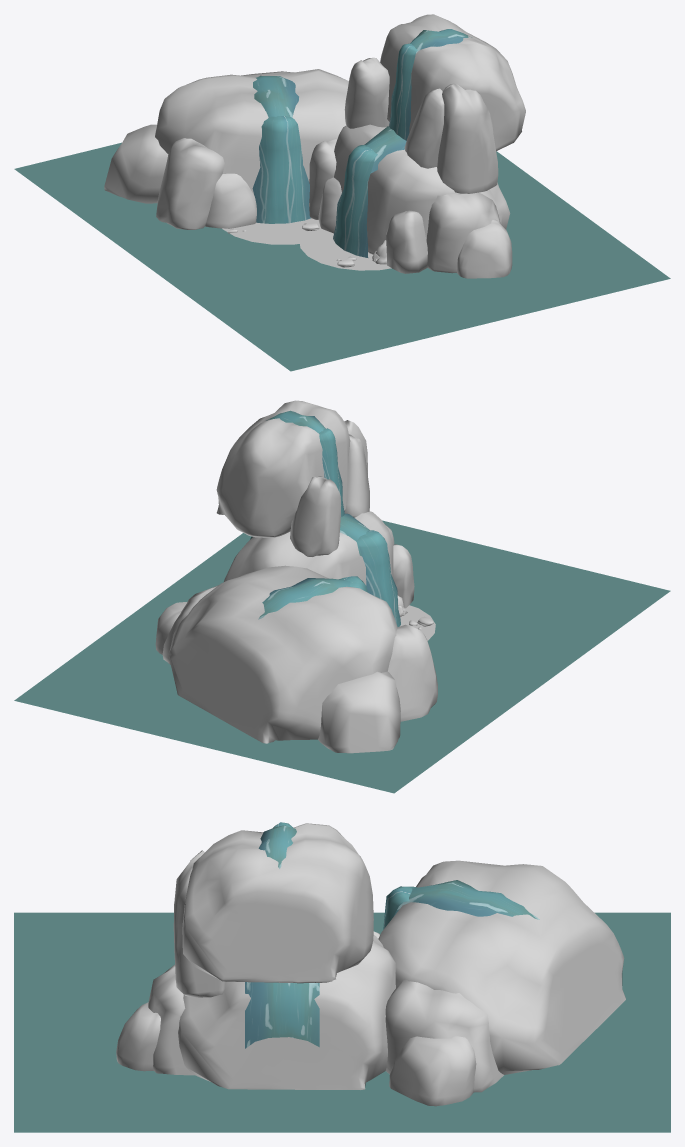
Rendered from stacked waterfall whole.fbx.
3 views of the same model, one above another, from view 1: azimuth 30°, elevation 25°; view 2: azimuth 150°, elevation 25°; view 3: azimuth 270°, elevation 25° (orthographic). The views are drawn at different scales.
Parts seen in each view (by area): view 1: water_lake, slanted_cliff, top_cliff, centre_cliff1, slant_waterfall_river1, centre_waterfall, slant_baseflow2, top_waterfall, centre_waterbase, centre_river, top_river; view 2: water_lake, slanted_cliff, top_cliff, centre_cliff1, centre_waterfall, slant_waterfall_river1, top_waterfall; view 3: water_lake, slanted_cliff, top_cliff, centre_cliff1, centre_river, slant_waterfall_river1, top_river.
Part boxes in pixels (x1,y1,x2,y2): water_lake: (14,142,670,371); slanted_cliff: (104,69,348,229); top_cliff: (344,14,525,193); centre_cliff1: (309,124,512,278); slant_waterfall_river1: (252,75,310,223); centre_waterfall: (333,145,377,257); slant_baseflow2: (222,218,333,244); top_waterfall: (389,43,417,140); centre_waterbase: (300,235,391,270); centre_river: (364,126,406,173); top_river: (410,29,472,53); water_lake: (14,520,670,793); slanted_cliff: (155,565,437,753); top_cliff: (216,400,369,556); centre_cliff1: (224,511,414,608); centre_waterfall: (356,530,400,626); slant_waterfall_river1: (258,576,367,619); top_waterfall: (319,428,344,517); water_lake: (14,912,670,1132); slanted_cliff: (378,860,625,1106); top_cliff: (173,823,373,997); centre_cliff1: (116,931,395,1089); centre_river: (245,982,319,1048); slant_waterfall_river1: (383,880,539,929); top_river: (258,825,296,868).
Size of the model in its own units: 118 by 60.12 by 149.
